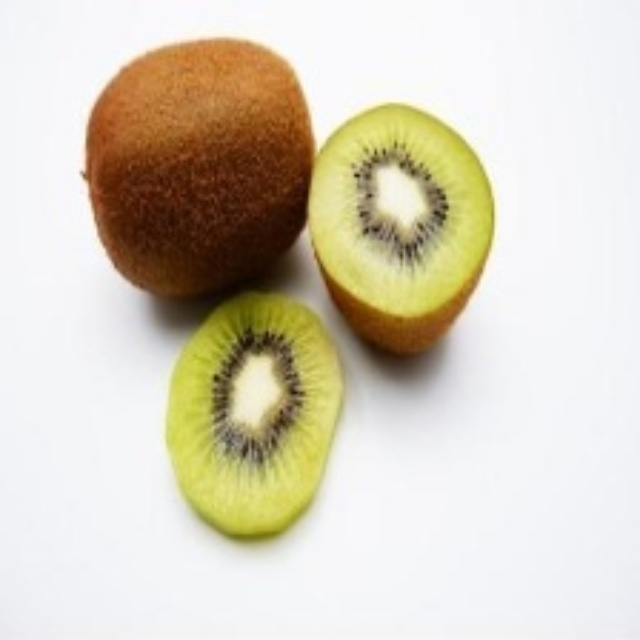kiwi: (82, 45, 322, 303), (154, 288, 362, 533), (307, 102, 498, 350)
